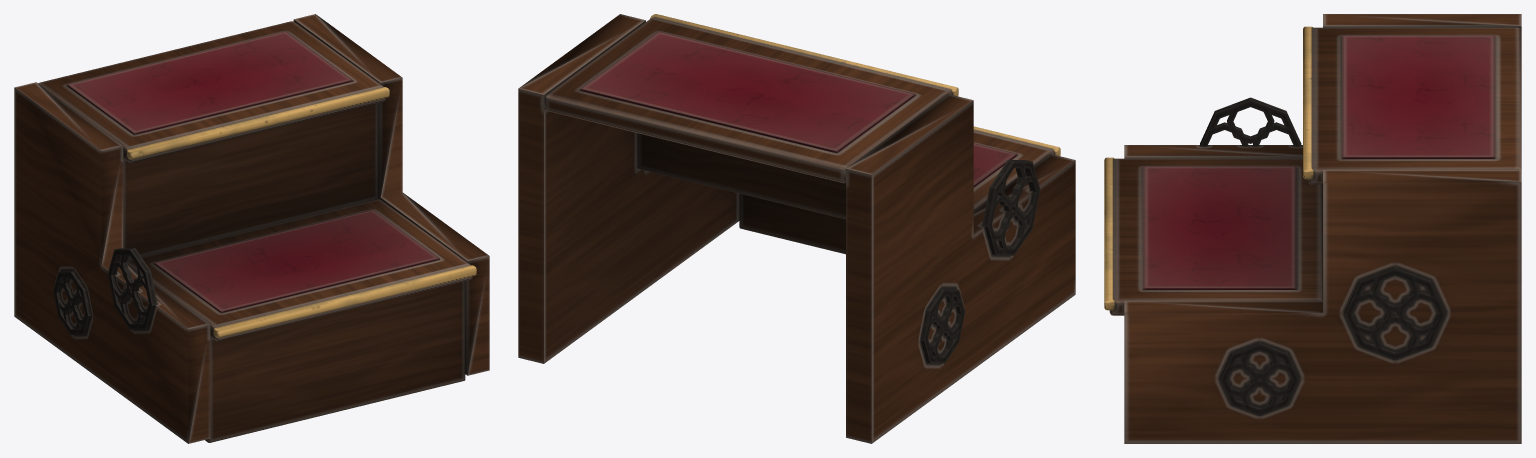
File: StepStool.fbx
3 views of the same model, side by side, from view 1: azimuth 30°, elevation 25°; view 2: azimuth 150°, elevation 25°; view 3: azimuth 270°, elevation 25° (orthographic). The views are drawn at different scales.
Visible parts, largest first — view 1: StepStool; view 2: StepStool; view 3: StepStool.
Boxes of the visible parts, x1,y1,x2,y2 form: StepStool: [14, 14, 489, 443]; StepStool: [518, 14, 1075, 443]; StepStool: [1104, 14, 1521, 443].
Size of the model in its own units: 224 by 165 by 231.
